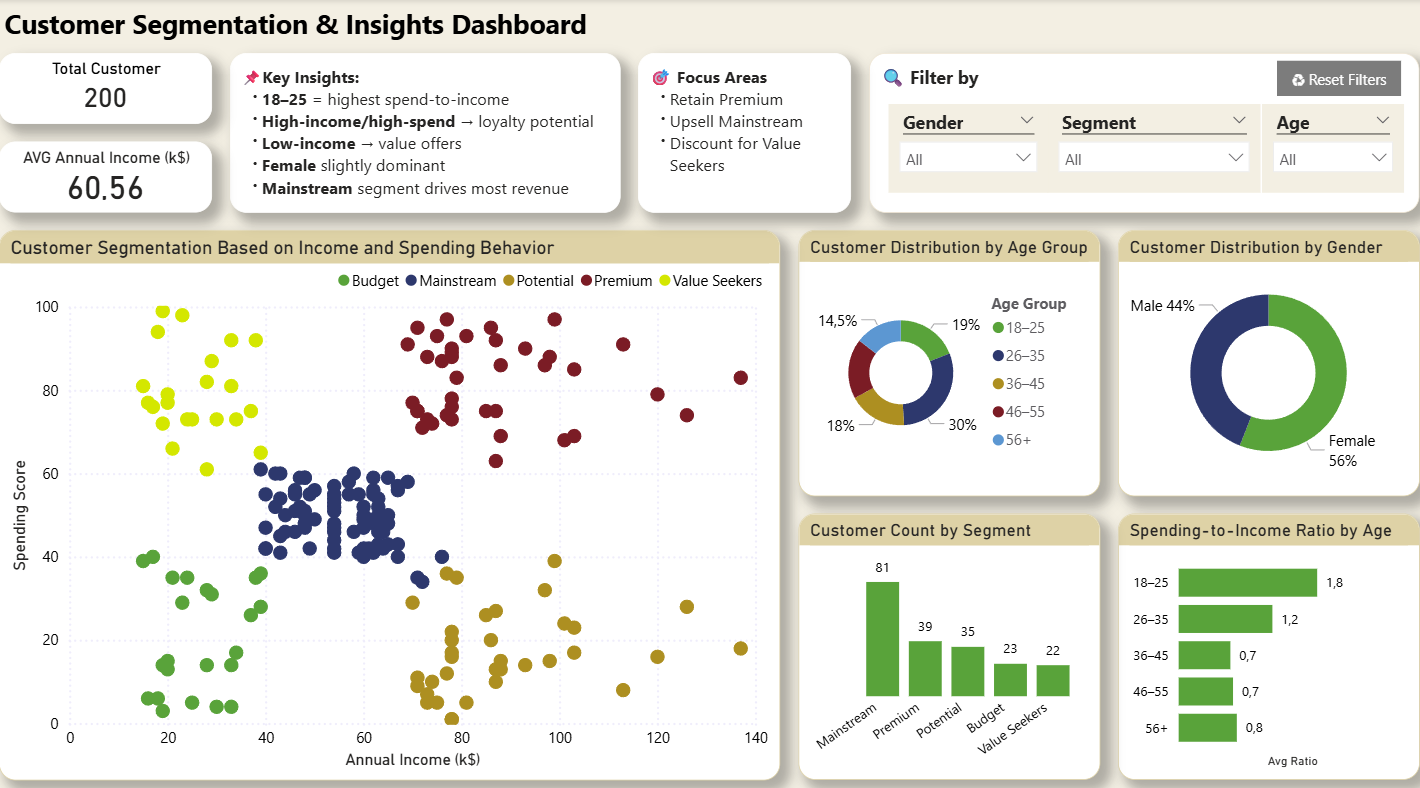

Layout of this report page (visuals, bound fields, positions):
{"tool":"powerbi","page":{"name":"Overview","canvas":[1280,720],"ordinal":0},"visuals":[{"type":"textbox","box":[784,48,496,144],"z":0},{"type":"donutChart","title":"Customer Distribution by Age Group","fields":{"Category":["data.Age Group"],"Y":["CountNonNull(K_Means_Shop_Customers.CustomerID)"]},"box":[720,208,272,240],"z":1000},{"type":"slicer","fields":{"Values":["data.Age Group"]},"box":[1137.5,94.4,128,80],"z":2000},{"type":"slicer","fields":{"Values":["data.Customer Segment"]},"box":[945.5,94.4,192,80],"z":3000},{"type":"donutChart","title":"Customer Distribution by Gender","fields":{"Category":["data.Genre"],"Y":["CountNonNull(data.CustomerID)"]},"box":[1008,208,272,240],"z":4000},{"type":"scatterChart","title":"Customer Segmentation Based on Income and Spending Behavior","fields":{"Category":["data.CustomerID"],"X":["Avg(data.AnnualIncome)"],"Y":["Avg(data.SpendingScore)"],"Series":["data.Customer Segment"]},"box":[0,208,704,496],"z":5000},{"type":"clusteredBarChart","title":"Spending-to-Income Ratio by Age","fields":{"Y":["Avg(data.Ratio)"],"Category":["data.Age Group"]},"box":[1008,464,272,240],"z":6000},{"type":"textbox","box":[0,0,608,48],"z":7000},{"type":"clusteredColumnChart","title":"Customer Count by Segment","fields":{"Category":["data.Customer Segment"],"Y":["CountNonNull(data.CustomerID)"]},"box":[720,464,272,240],"z":8000},{"type":"slicer","fields":{"Values":["data.Genre"]},"box":[801.5,94.4,144,80],"z":9000},{"type":"textbox","box":[208,48,352,144],"z":10000},{"type":"card","title":"Total Customer","fields":{"Values":["Count(data.CustomerID)"]},"box":[0,48,192,64],"z":11000},{"type":"textbox","box":[576,48,192,144],"z":12000},{"type":"card","title":"AVG Annual Income (k$)","fields":{"Values":["Avg(data.AnnualIncome)"]},"box":[0,128,192,64],"z":13000},{"type":"bookmarkNavigator","box":[1152,55,112,32],"z":14000}]}

Visuals, with their boxes in screenshot pixels (x1, y1, x2, y2), scaled from the page's 1280x720 canvas onto the 1420x788 screenshot:
textbox: box=[870, 53, 1419, 210]
"Customer Distribution by Age Group" donutChart: box=[799, 228, 1100, 490]
slicer - data.Age Group: box=[1262, 103, 1404, 191]
slicer - data.Customer Segment: box=[1049, 103, 1262, 191]
"Customer Distribution by Gender" donutChart: box=[1118, 228, 1419, 490]
"Customer Segmentation Based on Income and Spending Behavior" scatterChart: box=[0, 228, 781, 770]
"Spending-to-Income Ratio by Age" clusteredBarChart: box=[1118, 508, 1419, 770]
textbox: box=[0, 0, 674, 53]
"Customer Count by Segment" clusteredColumnChart: box=[799, 508, 1100, 770]
slicer - data.Genre: box=[889, 103, 1049, 191]
textbox: box=[231, 53, 621, 210]
"Total Customer" card: box=[0, 53, 213, 123]
textbox: box=[639, 53, 852, 210]
"AVG Annual Income (k$)" card: box=[0, 140, 213, 210]
bookmarkNavigator: box=[1278, 60, 1402, 95]
